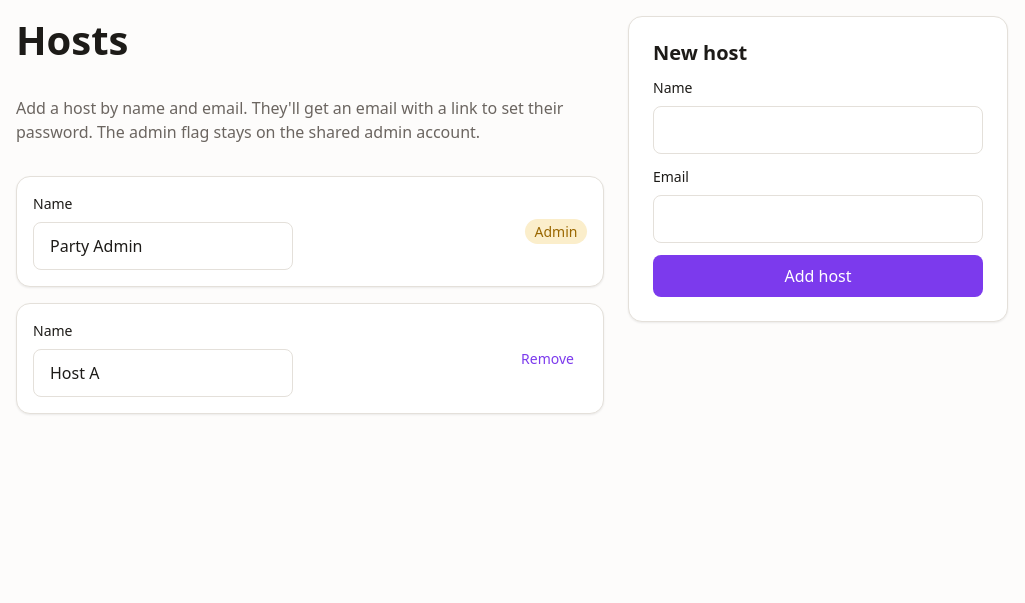
Scenario: Hosts › creates a host and reports the invite
Type "Kit" into the field labelled "Name" below "New host" at x=818, y=130, box 653,106 -> 983,154
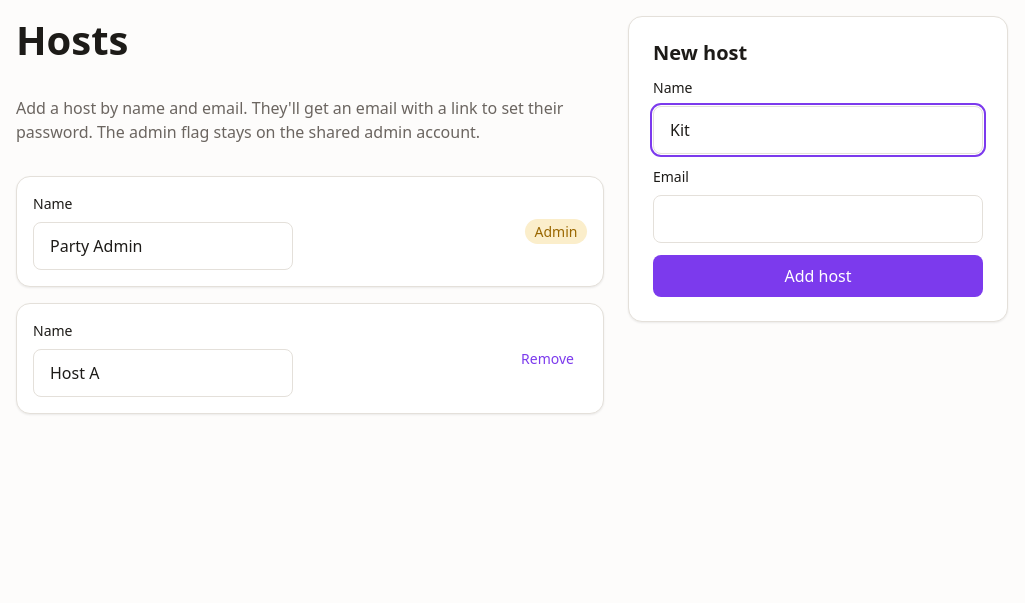
Type "kit@example.com" into the field labelled "Email" at x=818, y=219, box 653,195 -> 983,243
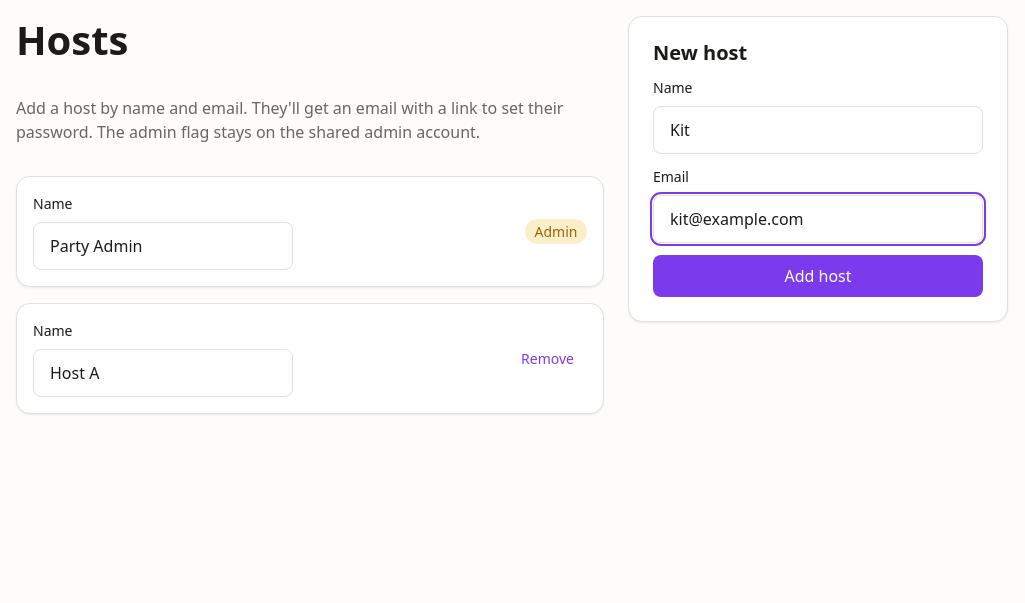
Click the button "Add host" at x=818, y=276, box 653,255 -> 983,297
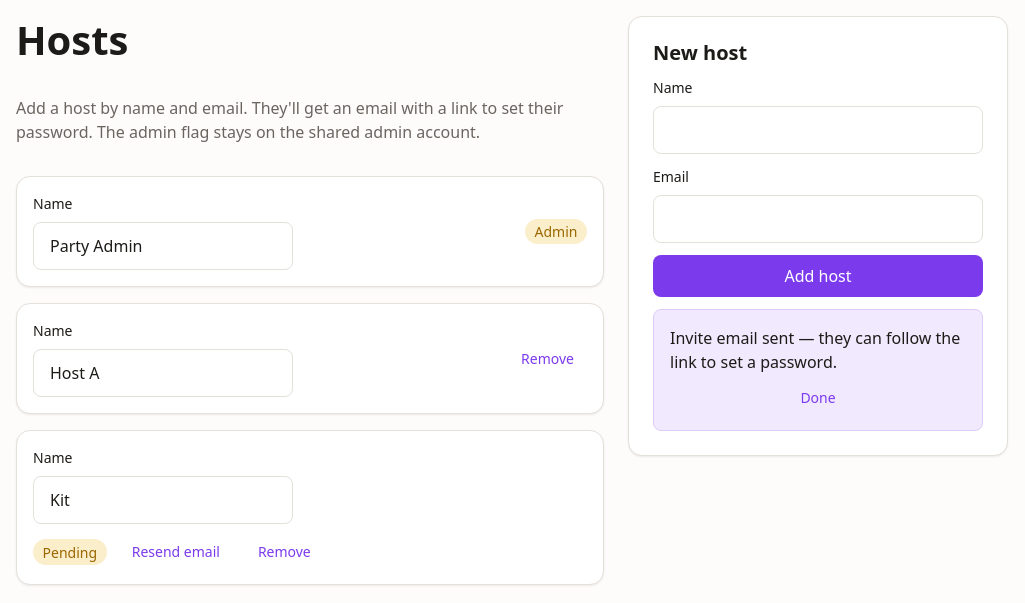
expect the text "Invite email sent" is shown: met, box 670,327 -> 960,373
expect the 4th field showing "Kit" is shown: met, box 33,476 -> 293,524
